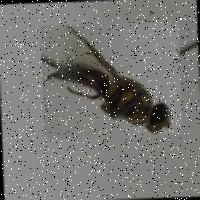Oriental-fruit-fly: (39, 20, 181, 138)
